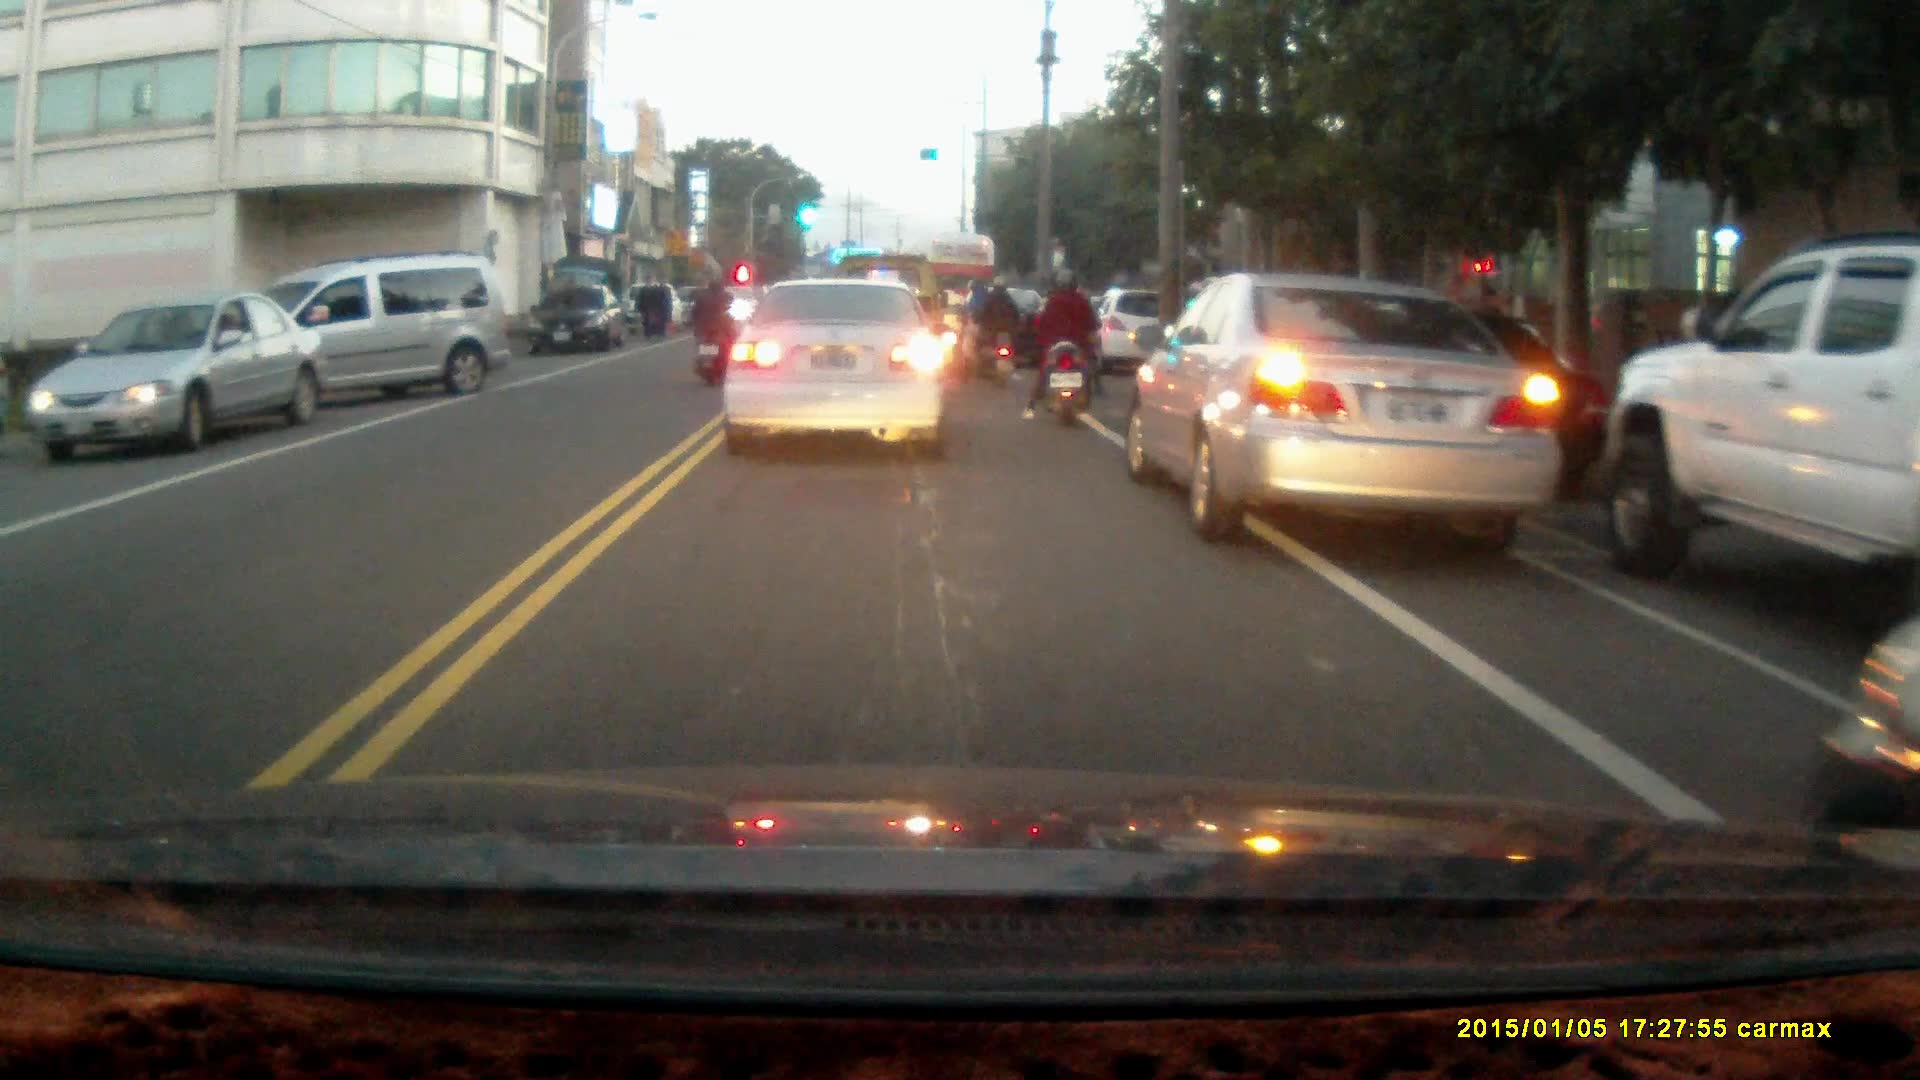pedestrian: (634, 271, 659, 337), (651, 272, 671, 337)
rider: (1021, 265, 1107, 429), (955, 269, 1023, 387), (690, 277, 734, 386)
vehicle: (1123, 266, 1557, 546), (1600, 233, 1920, 597), (209, 253, 518, 422), (36, 293, 321, 458), (721, 275, 952, 463), (1809, 622, 1920, 853), (529, 281, 628, 355)
